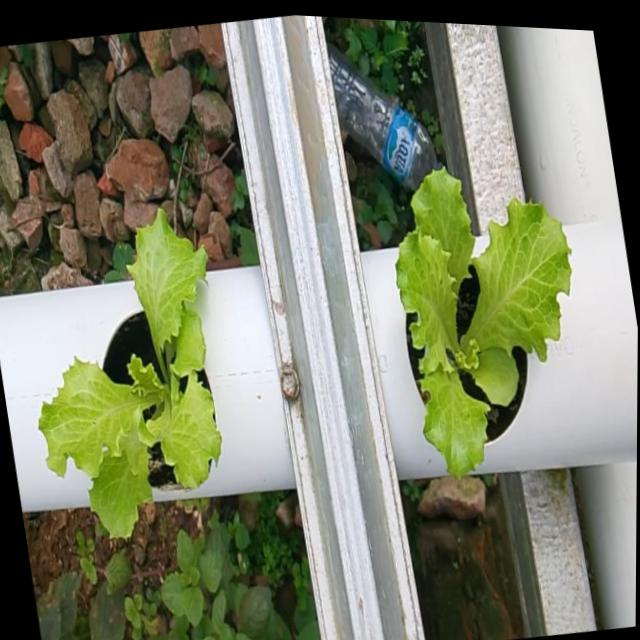Baby: (33, 214, 217, 545), (391, 170, 568, 484)
